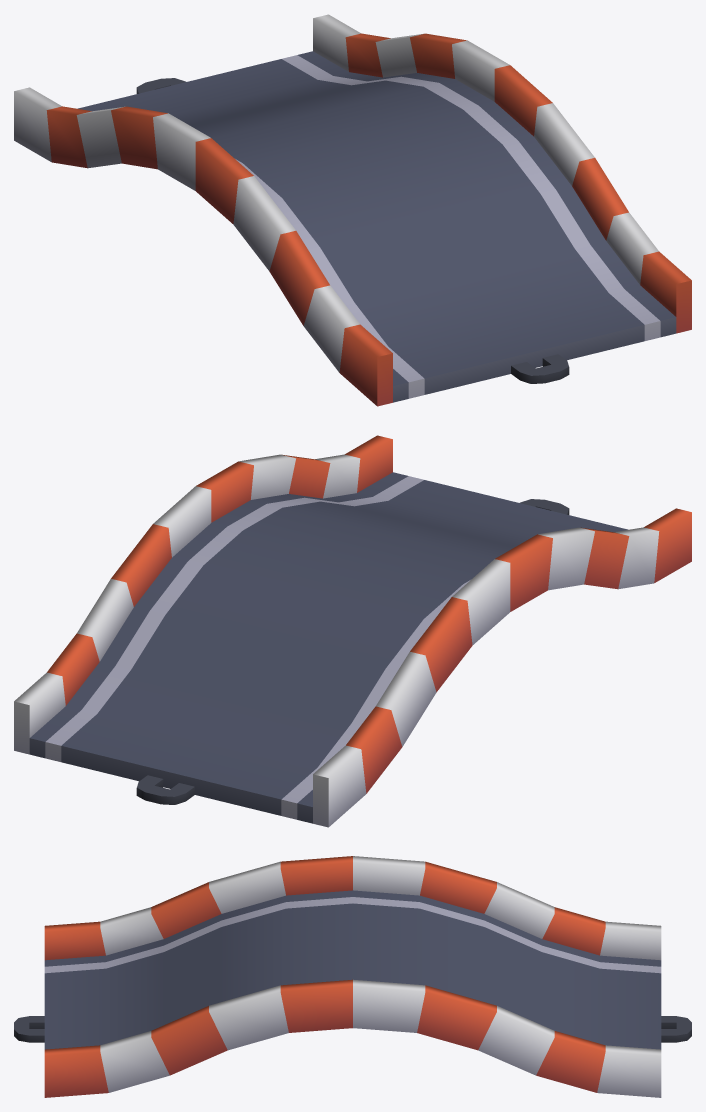
The model's file is track-road-wide-straight-bump-up.glb.
The picture shows the model from 3 angles, top to bottom: view 1: azimuth 30°, elevation 25°; view 2: azimuth 150°, elevation 25°; view 3: azimuth 270°, elevation 25°; orthographic projection. The views are drawn at different scales.
Parts seen in each view (by area): view 1: track-road-wide-straight-bump-up; view 2: track-road-wide-straight-bump-up; view 3: track-road-wide-straight-bump-up.
Boxes of the visible parts, x1,y1,x2,y2 form: track-road-wide-straight-bump-up: (14,14,691,406); track-road-wide-straight-bump-up: (14,435,691,827); track-road-wide-straight-bump-up: (14,856,691,1097).
Size of the model in its own units: 2 by 0.8 by 4.4.
